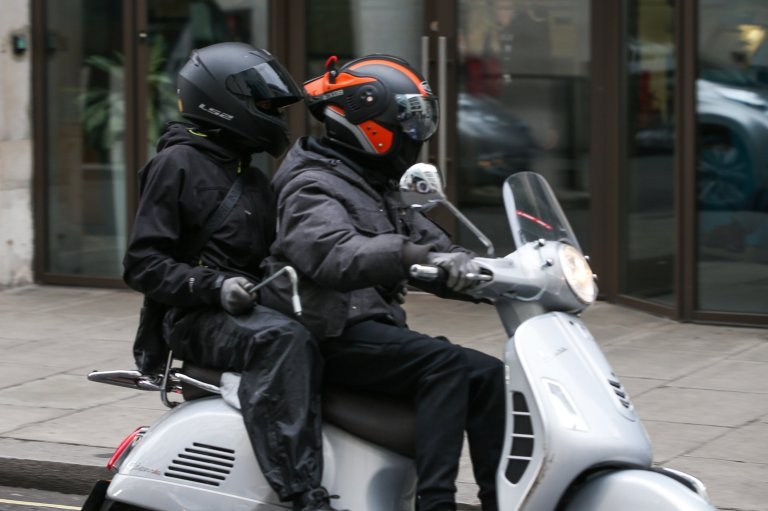Helmet: (298, 35, 450, 180), (165, 27, 301, 158)
motorcycle: (85, 194, 744, 511)
